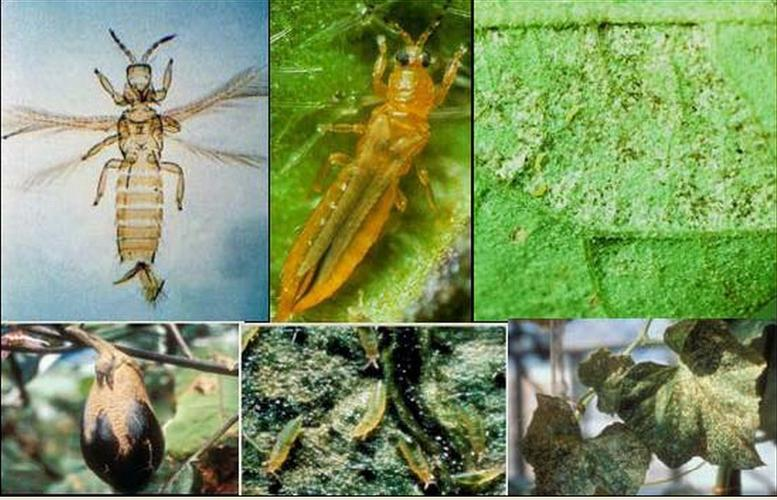Thripidae: (1, 27, 268, 309), (272, 3, 463, 321)
